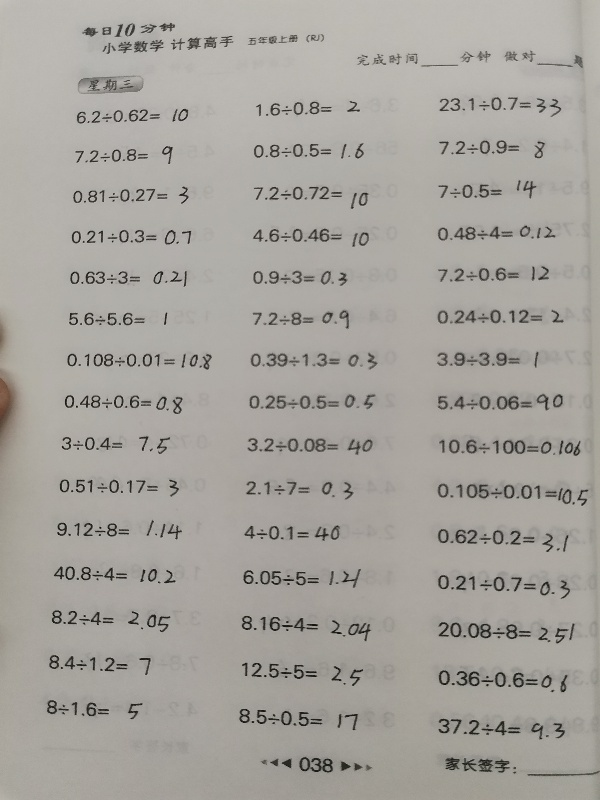equation: (236, 656, 372, 692), (44, 603, 178, 639), (51, 511, 191, 545), (234, 706, 374, 737), (434, 618, 578, 647), (433, 479, 591, 505), (428, 173, 546, 206), (433, 571, 574, 598), (57, 430, 183, 460), (433, 525, 571, 552), (63, 350, 216, 374), (237, 613, 375, 639), (434, 667, 571, 693), (39, 698, 157, 728), (58, 305, 184, 333), (435, 435, 584, 458), (434, 716, 568, 741), (436, 93, 564, 119), (249, 181, 372, 208), (250, 95, 377, 121), (239, 566, 365, 592), (60, 391, 186, 417), (243, 434, 376, 458), (434, 390, 567, 414), (56, 476, 183, 501), (246, 348, 380, 371), (249, 223, 372, 248), (69, 182, 192, 207), (246, 390, 379, 413), (435, 137, 557, 162), (242, 477, 357, 503), (50, 562, 179, 585), (434, 306, 568, 328), (434, 348, 551, 373), (68, 226, 195, 249), (66, 268, 191, 291), (44, 652, 154, 677), (433, 221, 558, 243), (250, 140, 368, 163), (250, 307, 353, 333), (433, 263, 552, 285), (73, 143, 177, 168), (72, 105, 192, 126), (241, 522, 344, 545), (248, 266, 350, 288)
